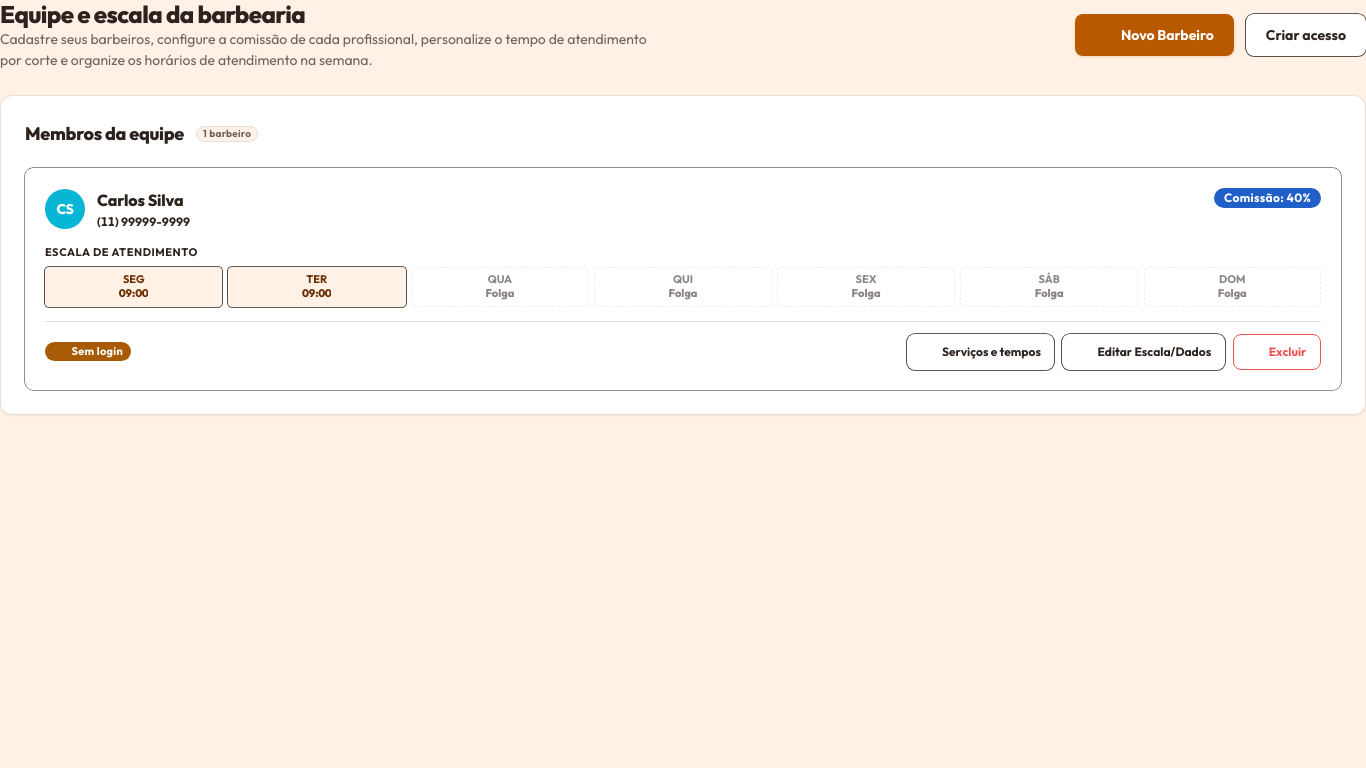
Scenario: Aba de Profissionais (Profissionais.tsx) › deve carregar os valores de break_start e break_end ao editar um profissional existente
Check: the heading "Carlos Silva" is shown, box [97,188,184,212]
# Clicar em editar para o Carlos Silva
What coordinates should you click on to do the following:
click the button "Editar Escala/Dados"
I would click on:
 (1144, 352)
Its box is [1062,334,1225,370].
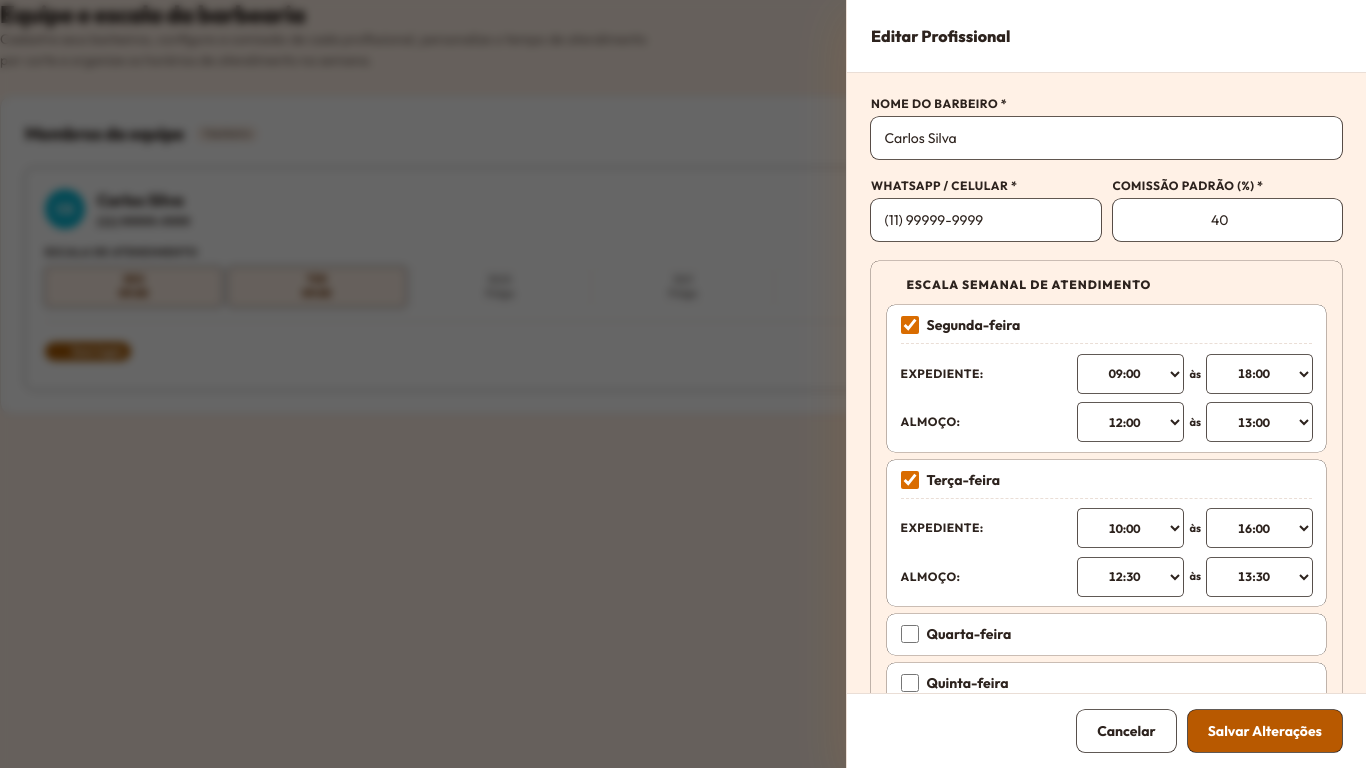
Check: the heading "Editar Profissional" is shown, box [871,24,1010,48]
Check: the dropdown named "Início do Almoço" below "Segunda-feira" shows "12:00", box [1078,403,1183,441]
Check: the dropdown named "Fim do Almoço" below "Segunda-feira" shows "13:00", box [1207,403,1312,441]
